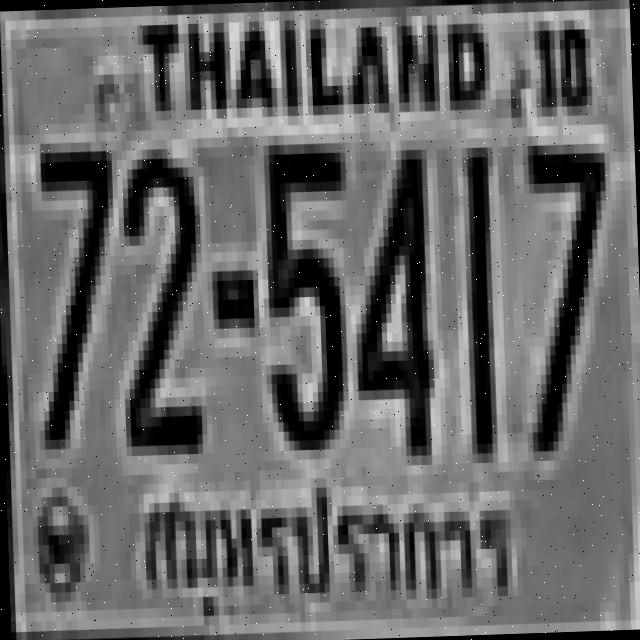1: (458, 142, 494, 448)
2: (116, 138, 202, 446)
4: (344, 140, 431, 448)
5: (258, 133, 350, 441)
7: (517, 138, 609, 446), (32, 142, 118, 440)
SamutPrakan: (130, 468, 518, 638)
